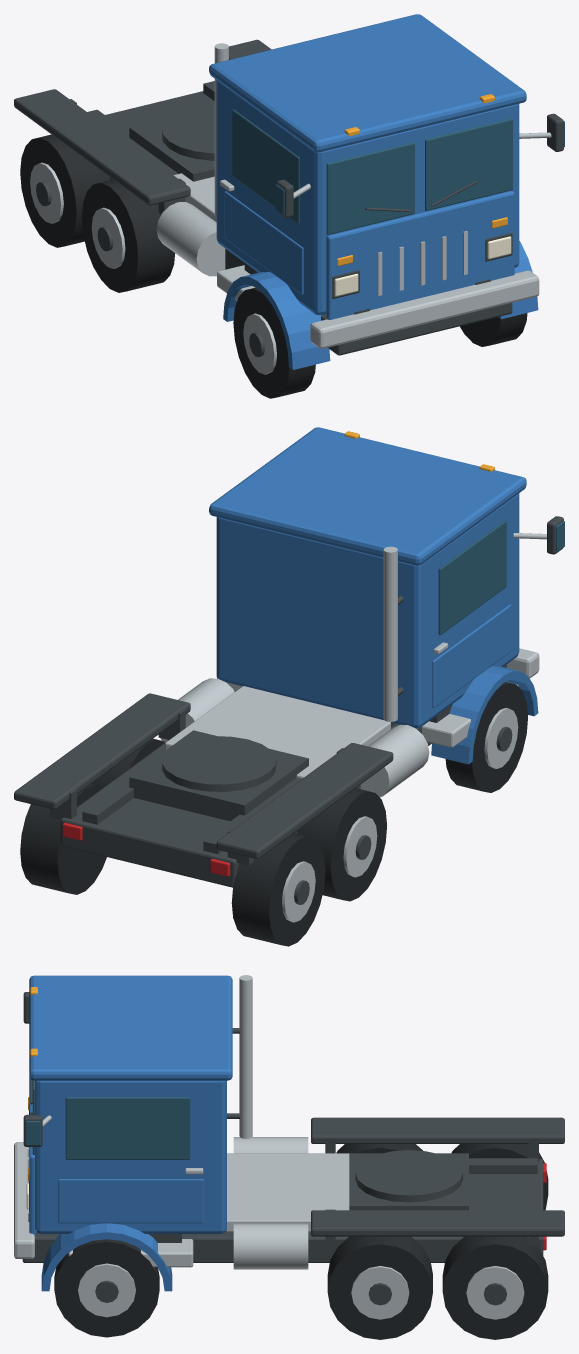
File: semi_tanker_tractor.glb
3 renders of one model, top to bottom at view 1: azimuth 30°, elevation 25°; view 2: azimuth 150°, elevation 25°; view 3: azimuth 270°, elevation 25°, orthographic. The views are drawn at different scales.
Parts seen in each view (by area): view 1: Tractor cab roof, Tractor cab, Tractor front fascia, Tandem rear mudguard, Tractor windshield, Tractor front bumper, Tractor windshield.001, Tractor drive tire, Tractor drive tire.002, Tractor chassis, Cab door side glass, Cab lower door panel (+16 smaller); view 2: Tractor cab, Tractor cab roof, Tractor chassis, Chassis access catwalk, Tandem rear mudguard, Tandem rear mudguard.001, Tractor drive tire.002, Fifth wheel coupling plate, Fifth wheel mounting block, Tractor drive tire.003, Tractor drive tire, Cab door side glass (+13 smaller); view 3: Tractor cab roof, Tractor cab, Chassis access catwalk, Cab door side glass.001, Tractor drive tire.001, Tractor drive tire.003, Tandem rear mudguard.001, Tandem rear mudguard, Cab lower door panel.001, Tractor chassis, Tractor front tire.001, Fifth wheel coupling plate (+14 smaller).
Boxes of the visible parts, left/top/right/bottom form: Tractor cab roof: left=209, top=14, right=526, bottom=152; Tractor cab: left=216, top=80, right=519, bottom=315; Tractor front fascia: left=326, top=191, right=514, bottom=319; Tandem rear mudguard: left=14, top=89, right=190, bottom=205; Tractor windshield: left=326, top=142, right=414, bottom=234; Tractor front bumper: left=310, top=270, right=539, bottom=348; Tractor windshield.001: left=425, top=118, right=512, bottom=210; Tractor drive tire: left=81, top=179, right=175, bottom=292; Tractor drive tire.002: left=20, top=134, right=110, bottom=247; Tractor chassis: left=105, top=91, right=512, bottom=355; Cab door side glass: left=232, top=109, right=299, bottom=224; Cab lower door panel: left=224, top=191, right=303, bottom=294; Tractor cab: left=216, top=493, right=519, bottom=728; Tractor cab roof: left=209, top=427, right=526, bottom=565; Tractor chassis: left=60, top=664, right=506, bottom=887; Chassis access catwalk: left=165, top=686, right=390, bottom=778; Tandem rear mudguard: left=216, top=743, right=393, bottom=859; Tandem rear mudguard.001: left=14, top=693, right=190, bottom=809; Tractor drive tire.002: left=231, top=833, right=325, bottom=946; Fifth wheel coupling plate: left=162, top=736, right=276, bottom=791; Fifth wheel mounting block: left=129, top=730, right=308, bottom=821; Tractor drive tire.003: left=20, top=783, right=106, bottom=894; Tractor drive tire: left=297, top=788, right=386, bottom=901; Cab door side glass: left=438, top=520, right=506, bottom=635; Tractor cab roof: left=29, top=975, right=232, bottom=1080; Tractor cab: left=35, top=1080, right=226, bottom=1233; Chassis access catwalk: left=226, top=1153, right=349, bottom=1231; Cab door side glass.001: left=65, top=1097, right=190, bottom=1159; Tractor drive tire.001: left=327, top=1236, right=432, bottom=1339; Tractor drive tire.003: left=442, top=1236, right=548, bottom=1339; Tandem rear mudguard.001: left=311, top=1210, right=564, bottom=1236; Tandem rear mudguard: left=311, top=1117, right=564, bottom=1143; Cab lower door panel.001: left=58, top=1179, right=203, bottom=1223; Tractor chassis: left=22, top=1159, right=543, bottom=1262; Tractor front tire.001: left=54, top=1239, right=159, bottom=1337; Fifth wheel coupling plate: left=355, top=1150, right=462, bottom=1202.
Size of the model in its own units: 3.17 by 3.07 by 5.75.
